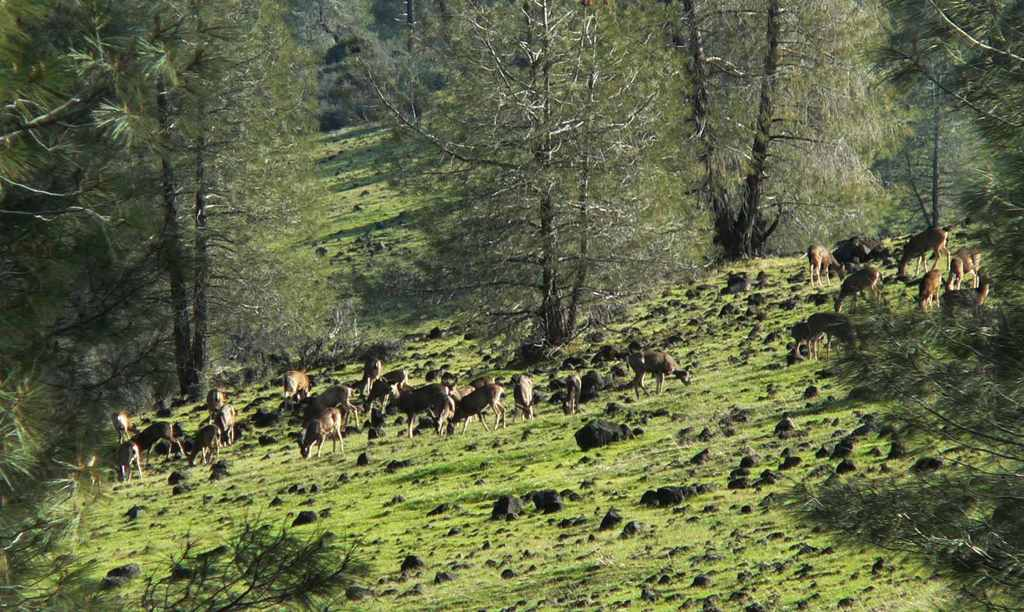Animal: (102, 359, 688, 481), (804, 209, 988, 369), (622, 346, 694, 397), (721, 267, 751, 292)
